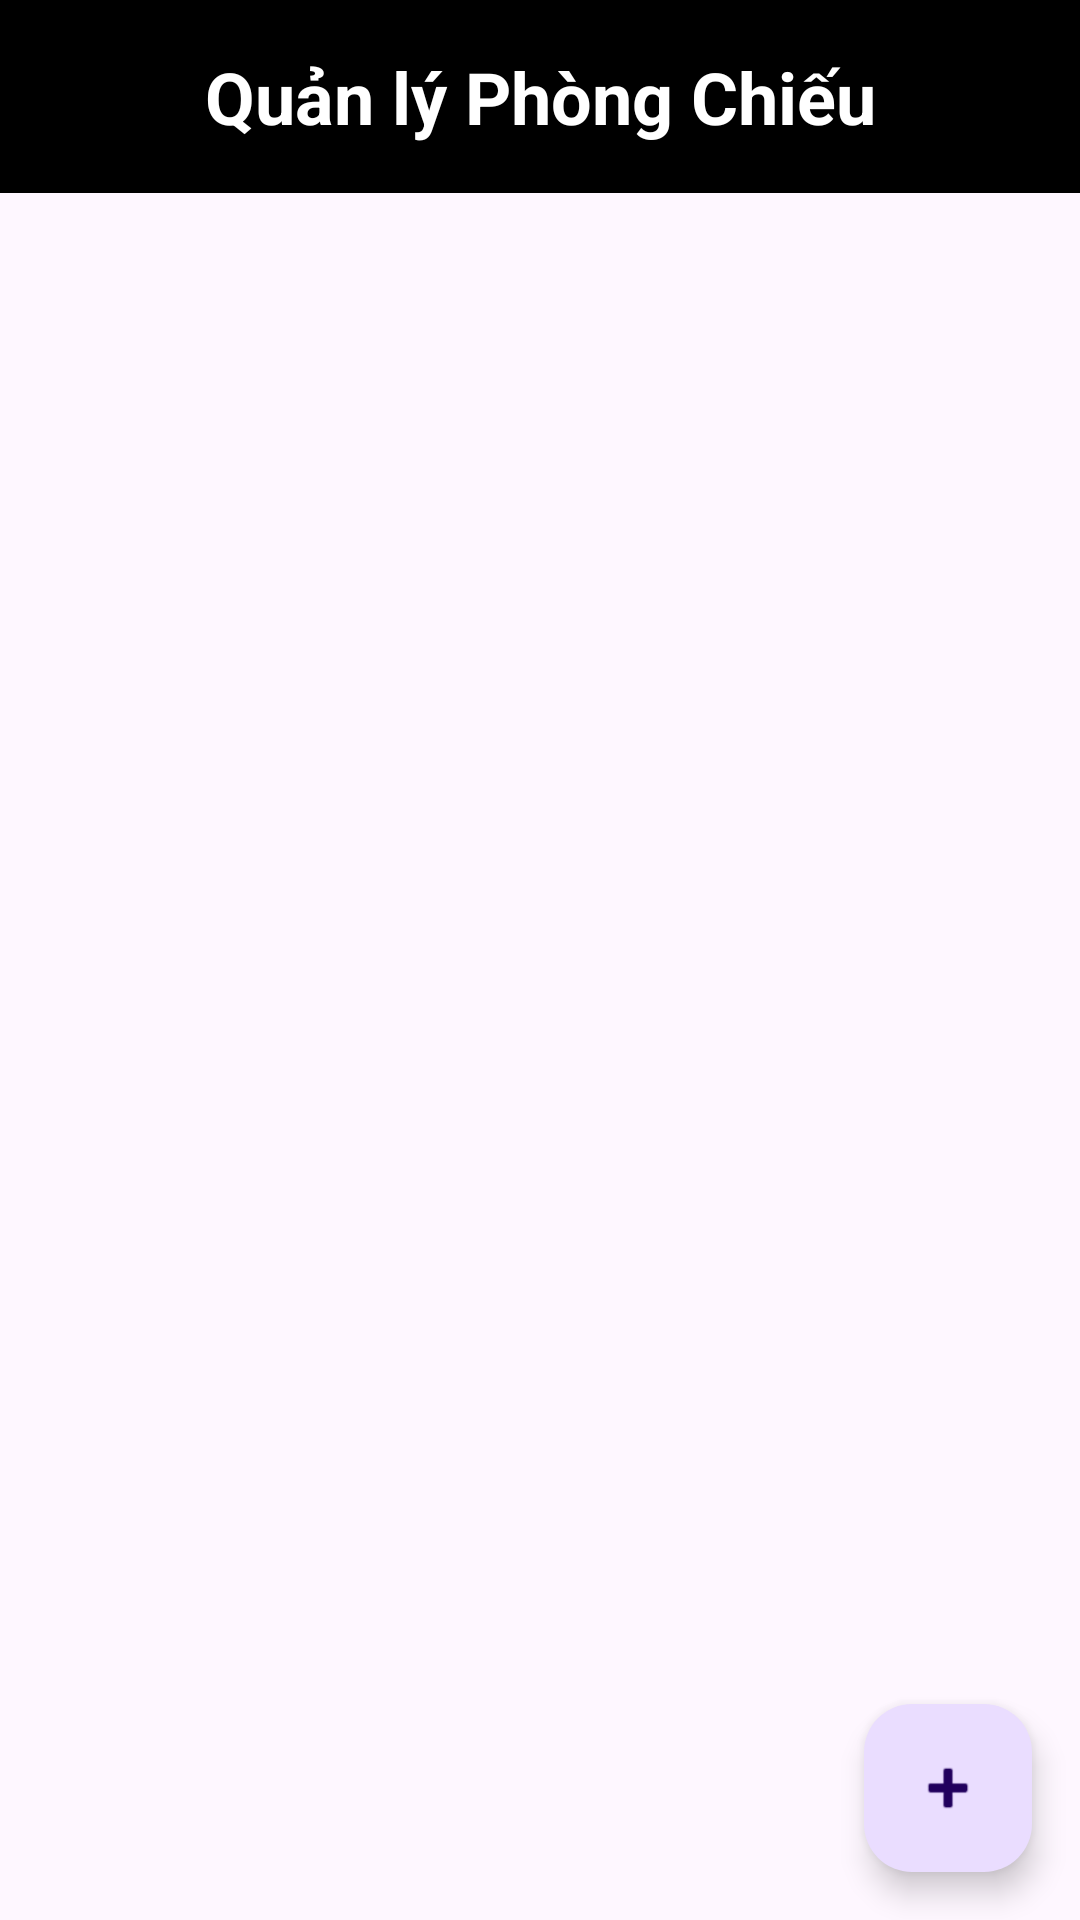

Screen size 1080px×1920px. Icon name, then its center in pixels as (x,y):
Thêm Phòng Mới: (948,1788)
